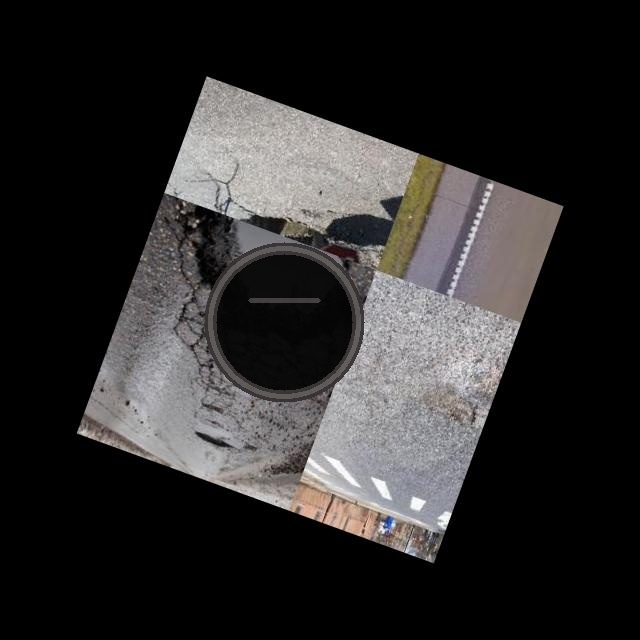open_manhole: (201, 239, 367, 405)
